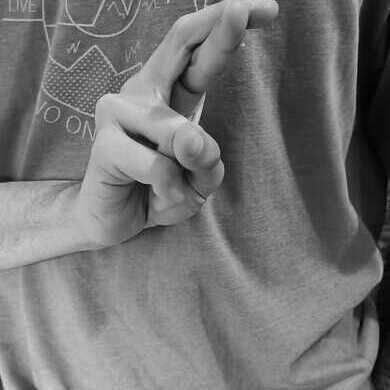R: (80, 1, 280, 247)
